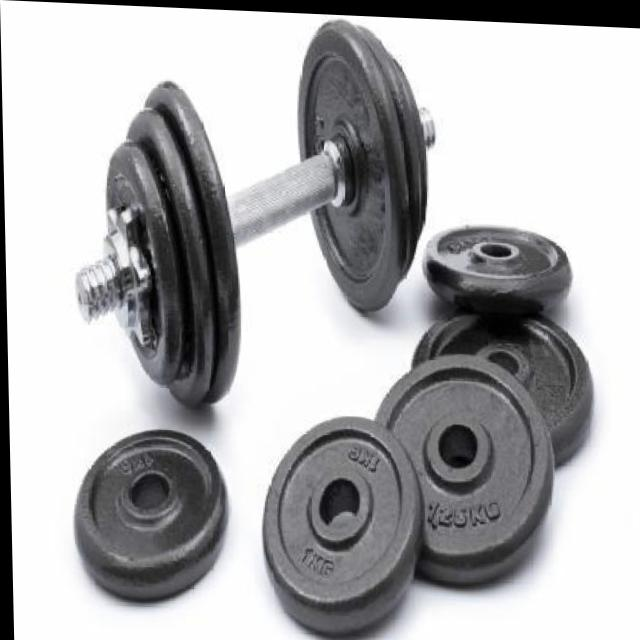barbell: (63, 125, 191, 398)
